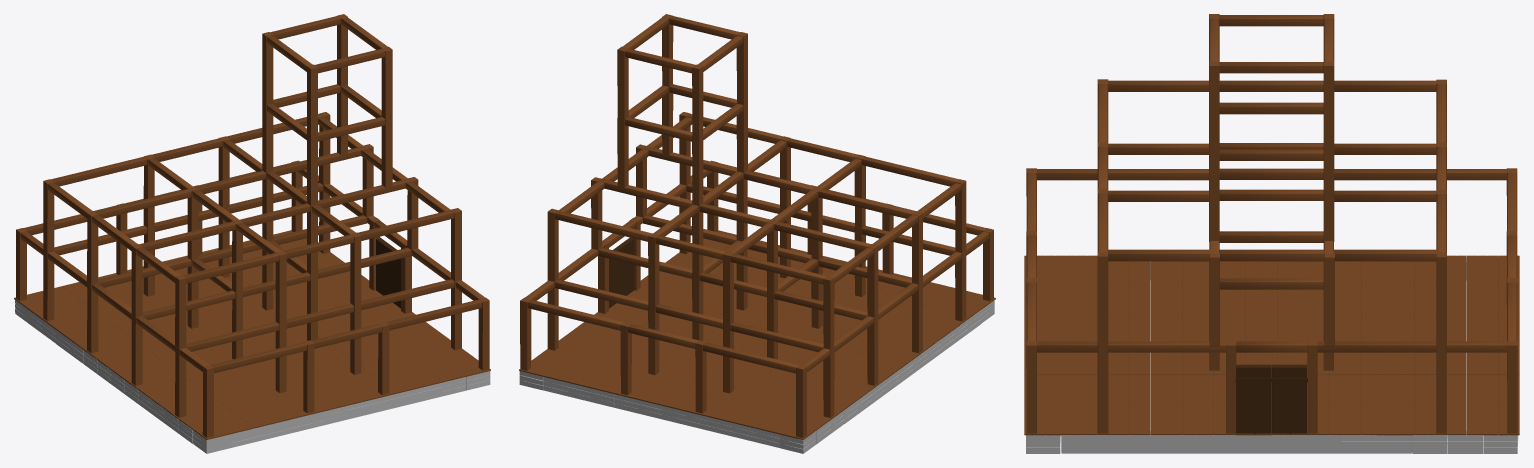
Rendered from SM_TownHall_Construction.fbx.
The picture shows the model from 3 angles, left to right: view 1: azimuth 30°, elevation 25°; view 2: azimuth 150°, elevation 25°; view 3: azimuth 270°, elevation 25°; orthographic projection. The views are drawn at different scales.
Parts seen in each view (by area): view 1: SM_TownHall_Construction; view 2: SM_TownHall_Construction; view 3: SM_TownHall_Construction.
Part boxes in pixels (<box>): SM_TownHall_Construction: <box>14,14,490,453</box>; SM_TownHall_Construction: <box>519,14,995,453</box>; SM_TownHall_Construction: <box>1024,14,1519,453</box>.
Size of what is drawn, in the model's own units: 1202 by 1410 by 1170.
